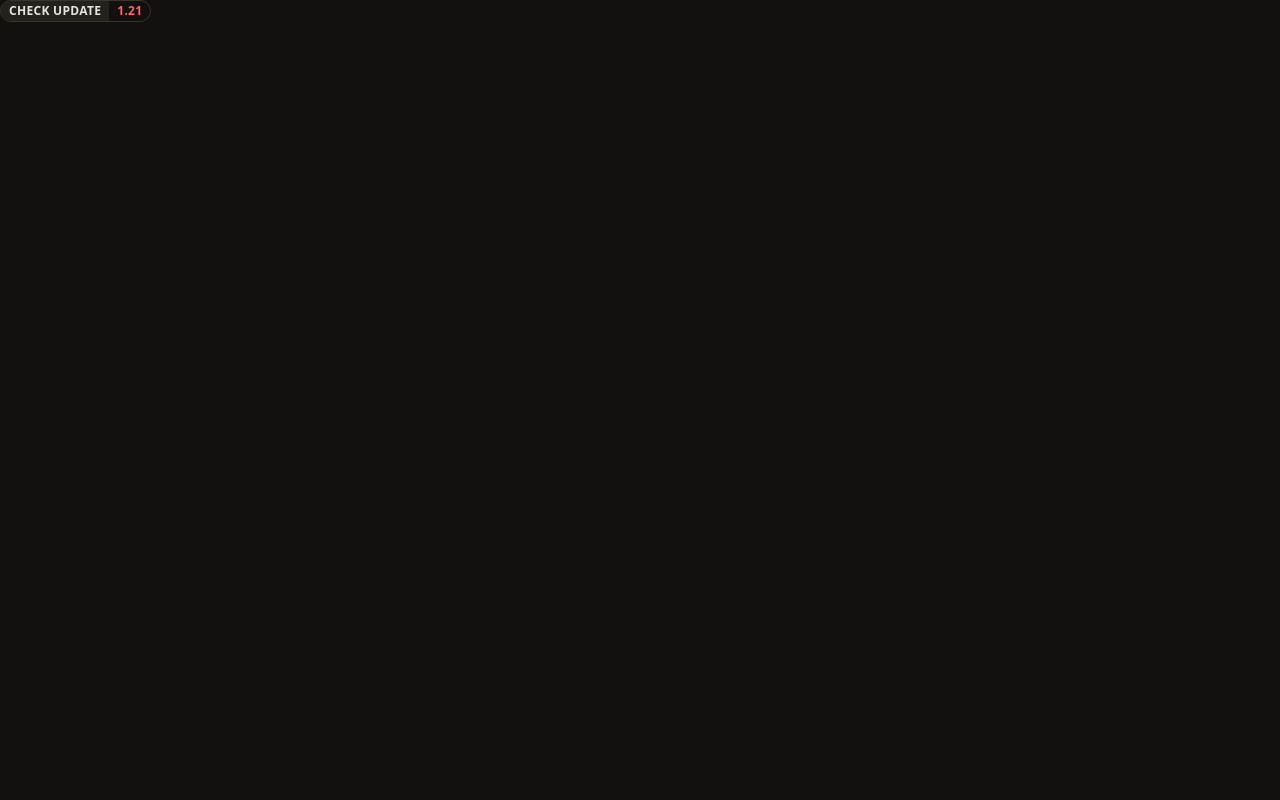
Test: UpdateButton › a development copy says to use git, and checks nothing
Click the button "Check update 1.21": (76,11) [0, 0, 152, 22]
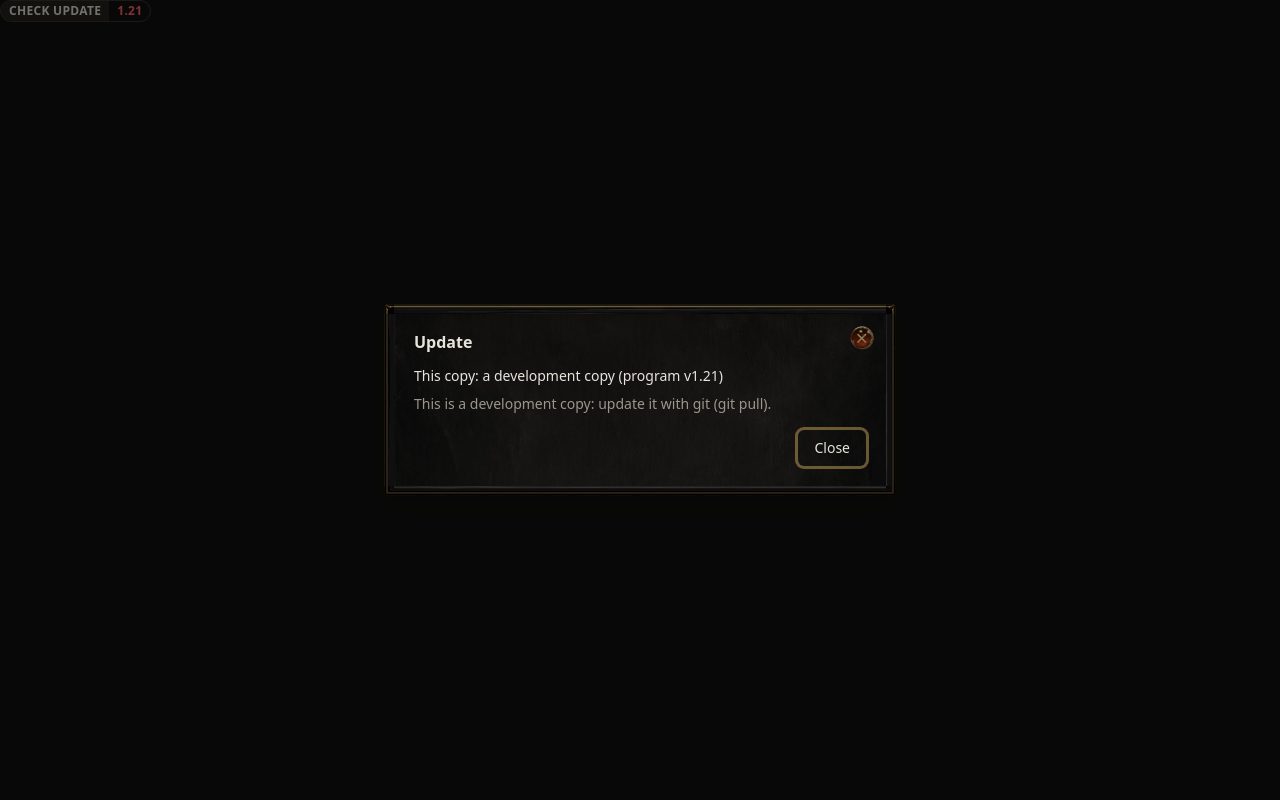
Expected: the text "This is a development copy: update it with git (git pull)." is shown, [414, 394, 771, 413]
